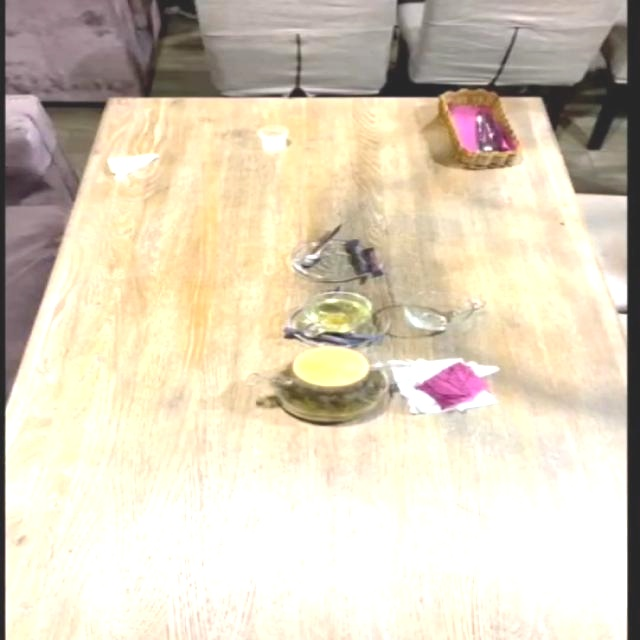tea: (269, 345, 389, 423)
